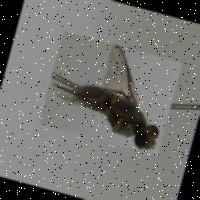Oriental-fruit-fly: (38, 30, 182, 155)
